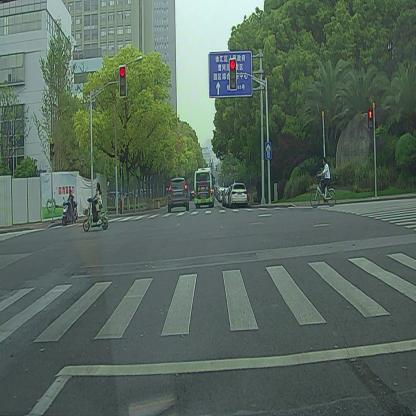Red Light: (118, 62, 128, 100), (230, 58, 237, 92)
